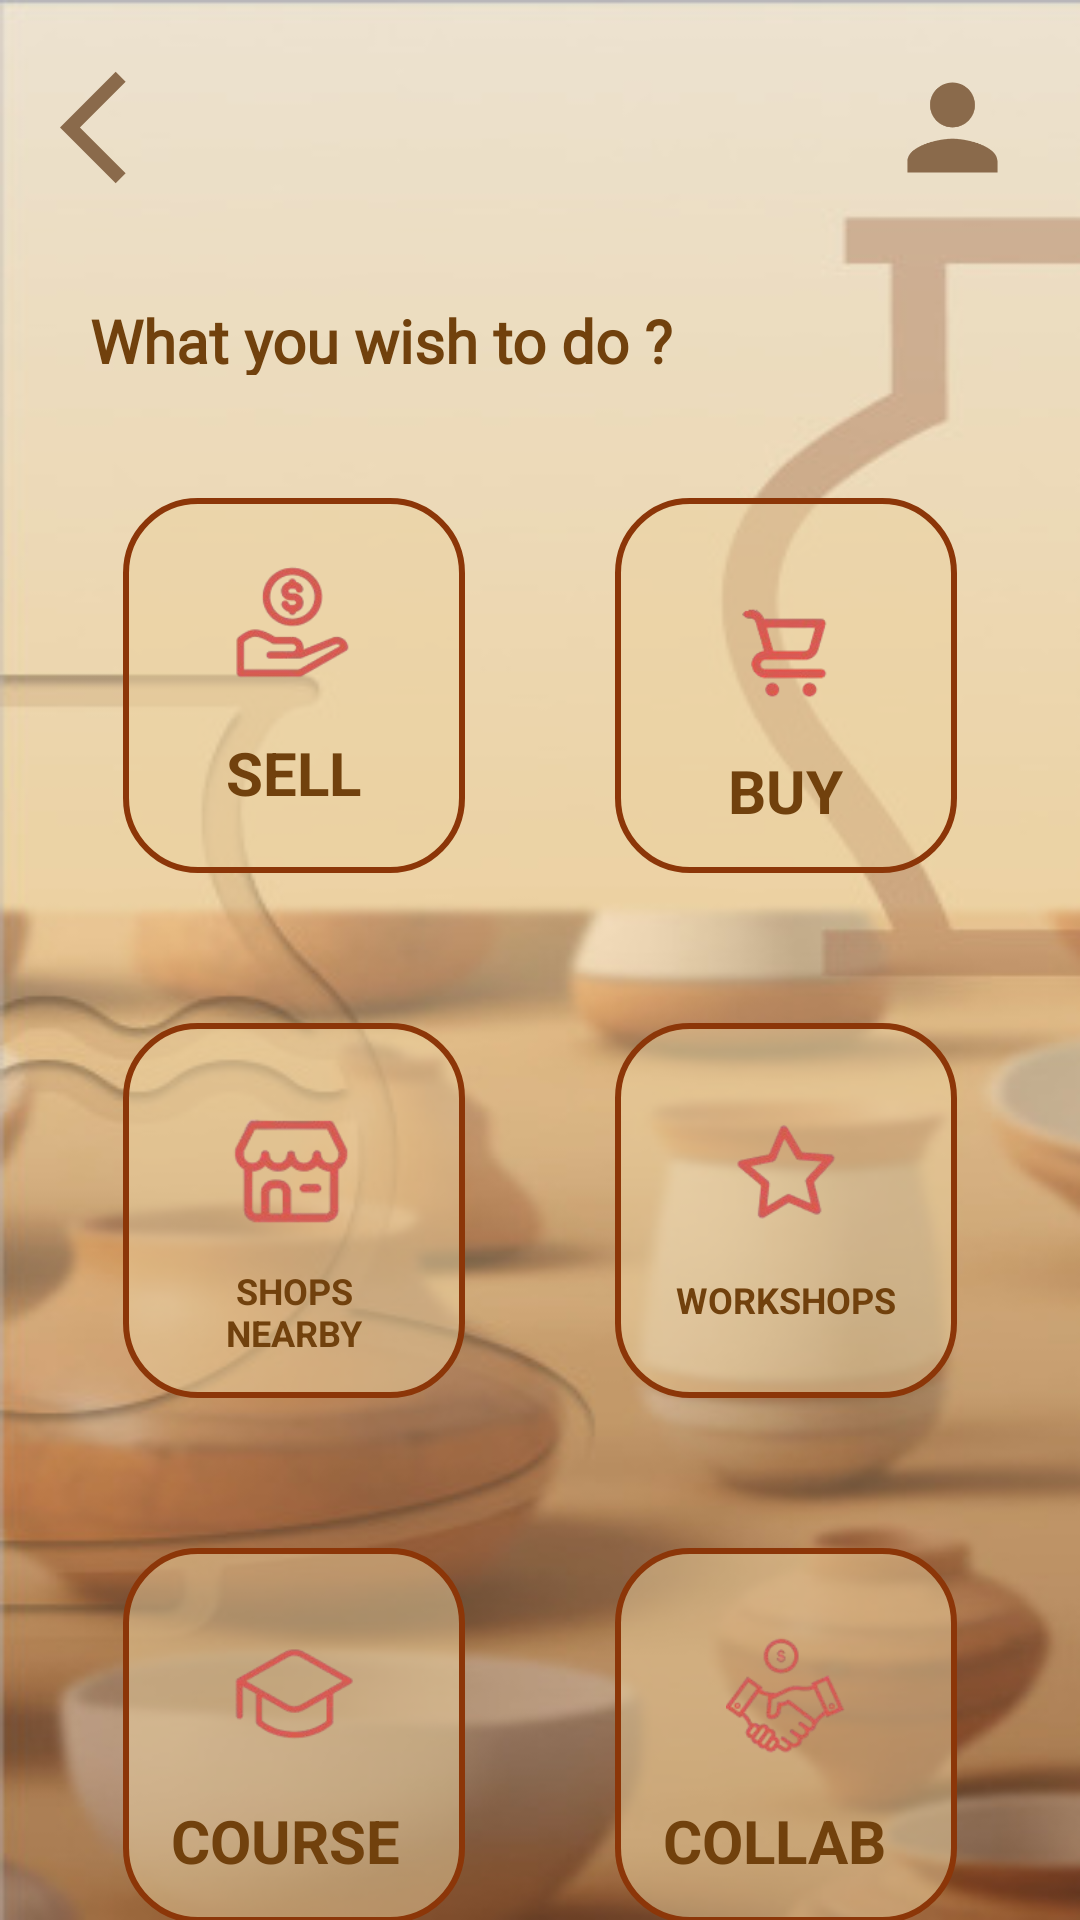

Where to tap for icons on this 1080x1920 app screen, as [x,y]:
arrow back: [93,127]
person: [952,127]
